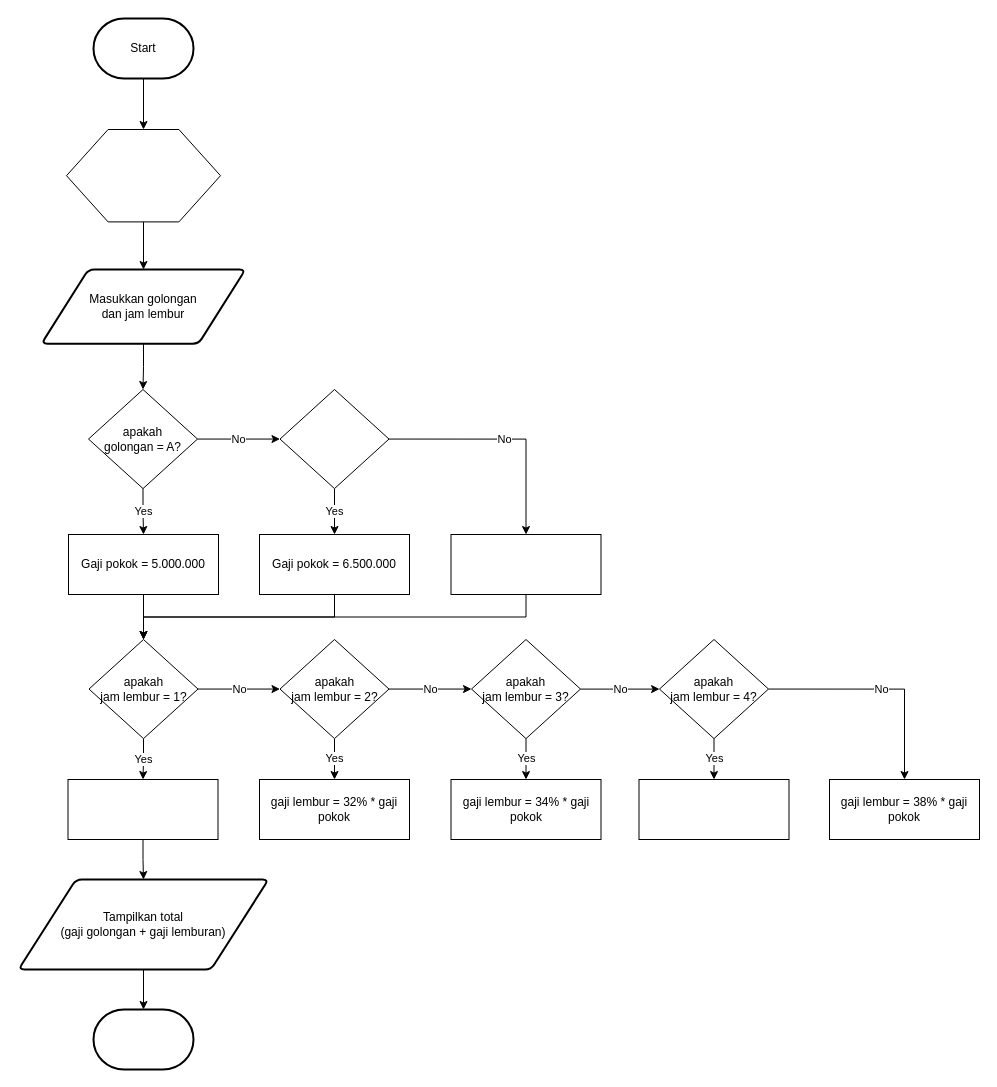
Some shapes in this 997 by 1087 pixel diagram are drawn without their labels. The centre of each missing label's shape, as x and y in pixels:
"apakah golongan = B?" belongs at point (334, 438).
"End" belongs at point (143, 1039).
"gaji lembur = 30% * gaji pokok" belongs at point (142, 809).
"gaji lembur = 36 % * gaji pokok" belongs at point (713, 809).
"Gaji pokok = 9.500.000" belongs at point (525, 564).
"golongan, gaji pokok, jam lembur, gaji lembur" belongs at point (143, 175).
